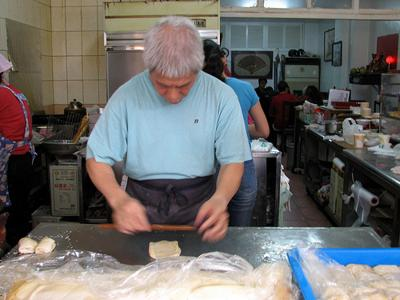person: (84, 17, 255, 246)
